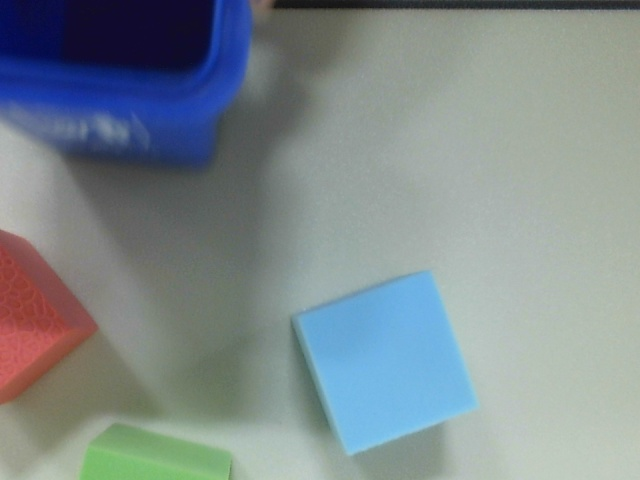greencube: (60, 420, 243, 480)
